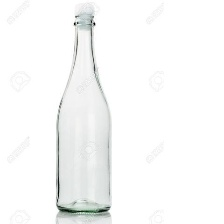bottle: (53, 2, 118, 218)
